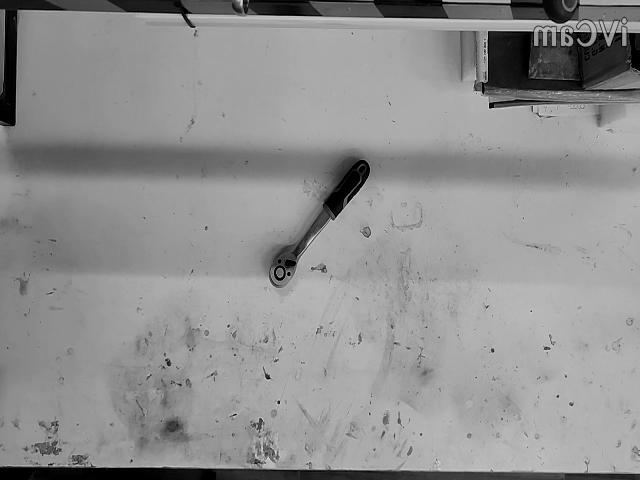Ratchet: (269, 160, 370, 288)
